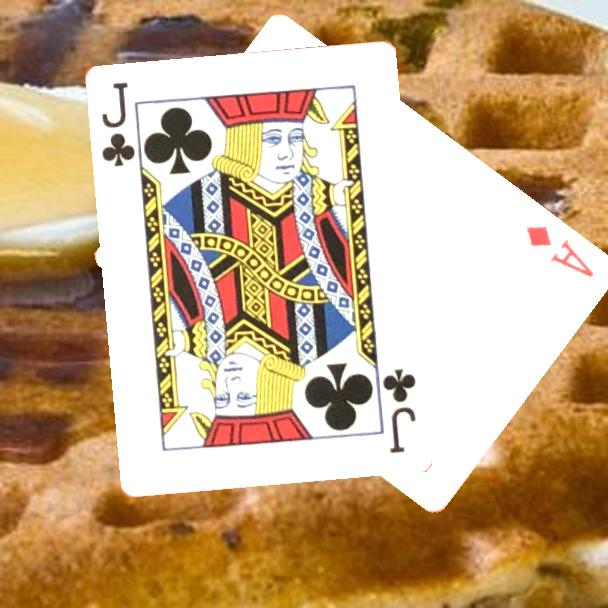c11: (97, 78, 137, 169), (379, 364, 418, 456)
d01: (523, 222, 598, 281)
